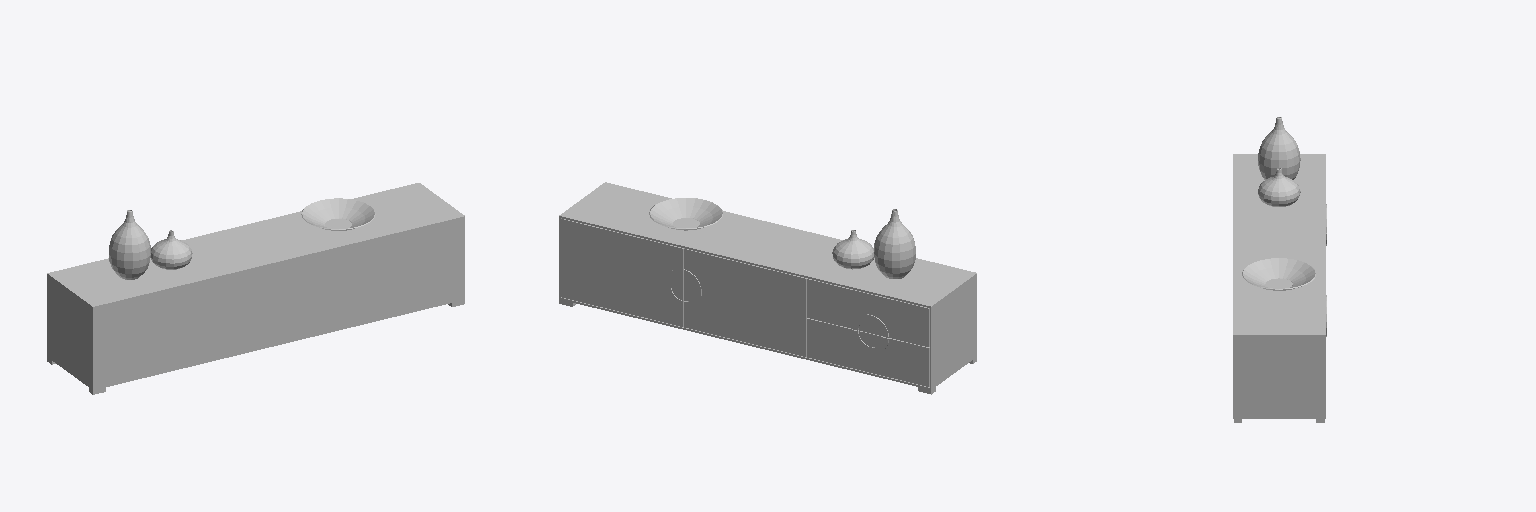
File: TvTable.obj
3 renders of one model, left to right at view 1: azimuth 30°, elevation 25°; view 2: azimuth 150°, elevation 25°; view 3: azimuth 270°, elevation 25°, orthographic.
Visible parts, largest first — view 1: TvTable; view 2: TvTable; view 3: TvTable.
Boxes of the visible parts, x1,y1,x2,y2 form: TvTable: [47, 183, 464, 394]; TvTable: [559, 182, 976, 394]; TvTable: [1233, 117, 1326, 422].
Bounding box in the file's own units: 1.4 × 0.5509 × 0.3031.